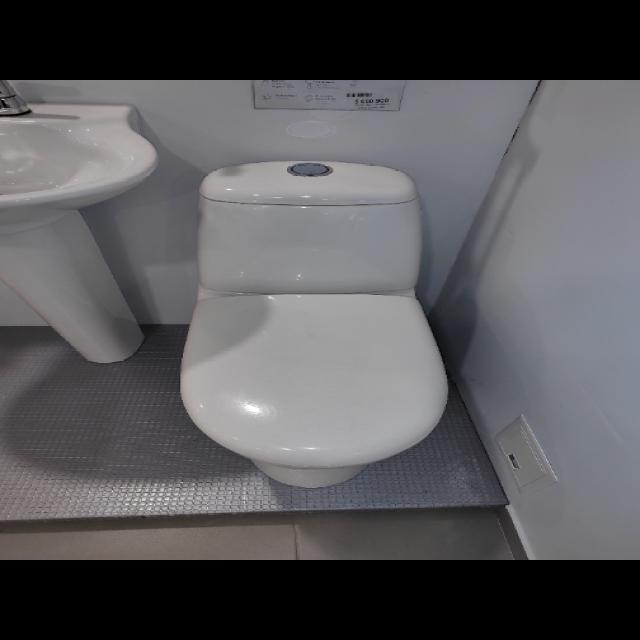toilet: (178, 159, 449, 489)
